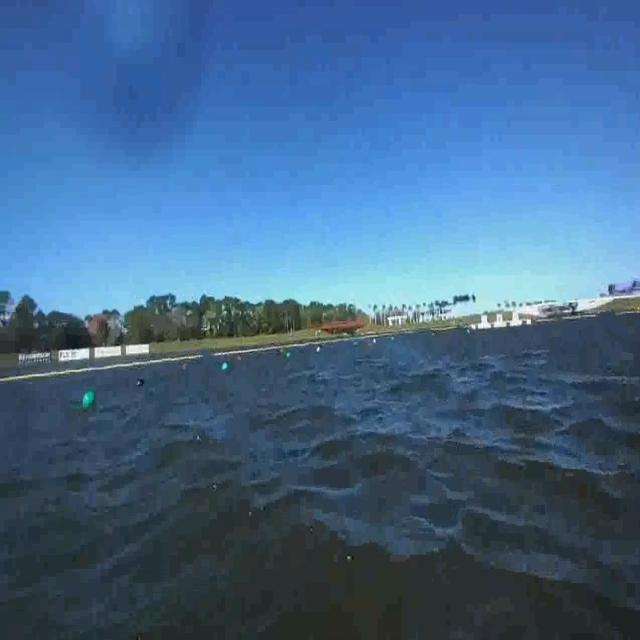green-buoy: (82, 387, 96, 405)
